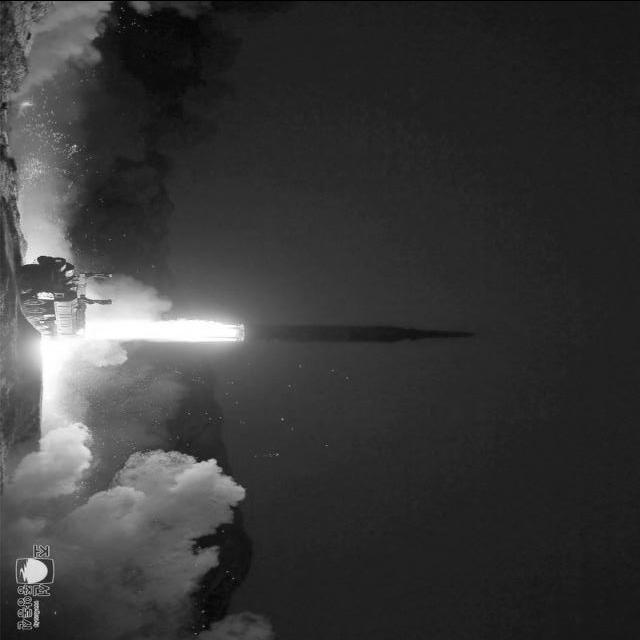Missile: (241, 318, 481, 348)
